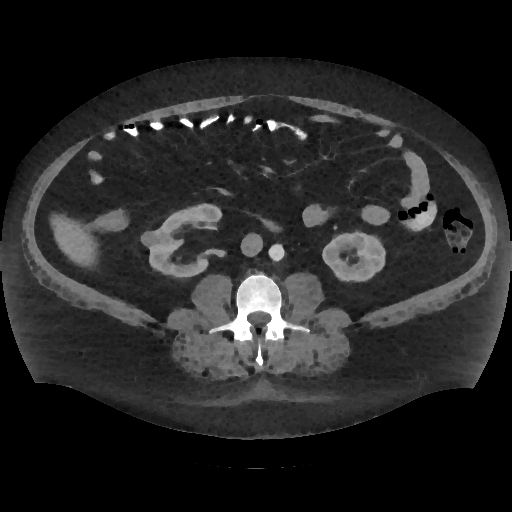Lesion: (138, 231, 161, 250)
